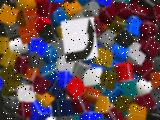Left: (61, 16, 98, 64)
